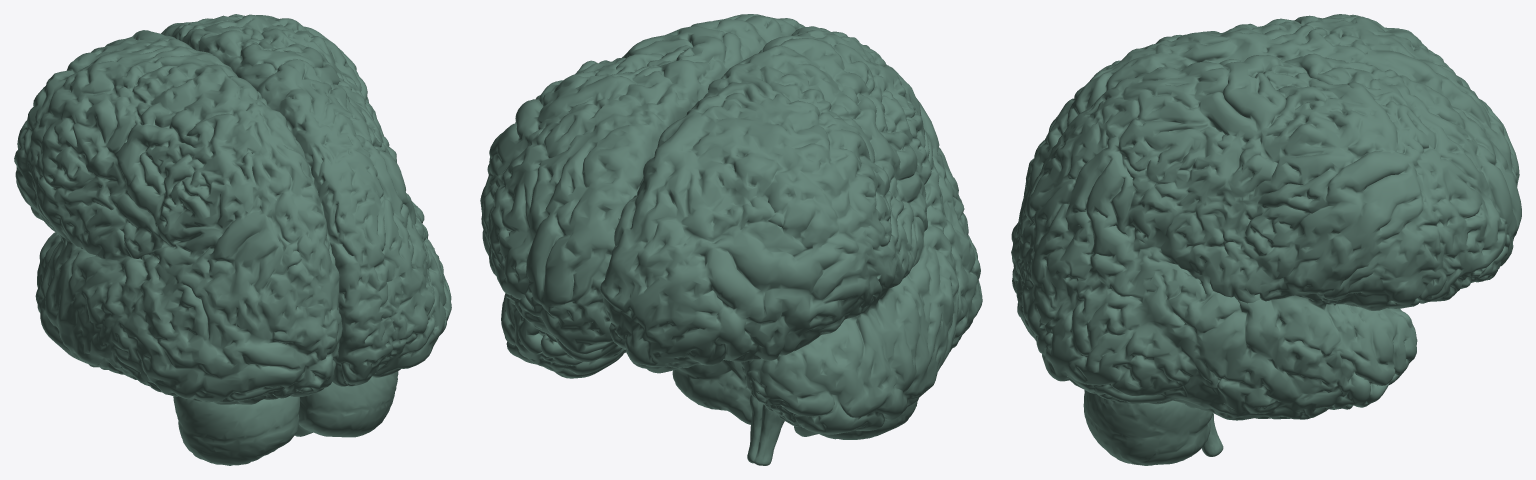
Rendered from brain.glb.
The picture shows the model from 3 angles, left to right: view 1: azimuth 30°, elevation 25°; view 2: azimuth 150°, elevation 25°; view 3: azimuth 270°, elevation 25°; orthographic projection. The views are drawn at different scales.
Parts seen in each view (by area): view 1: Lobe; view 2: Lobe; view 3: Lobe.
Part boxes in pixels (bbox=[...]): Lobe: bbox=[14, 14, 451, 465]; Lobe: bbox=[480, 14, 982, 465]; Lobe: bbox=[1011, 14, 1521, 465].
Size of the model in its own units: 1.29 by 1.38 by 1.56.
